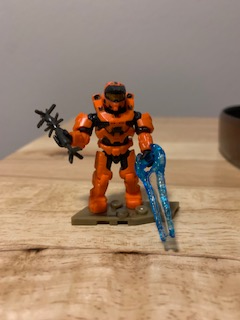spartan: (53, 79, 154, 209)
